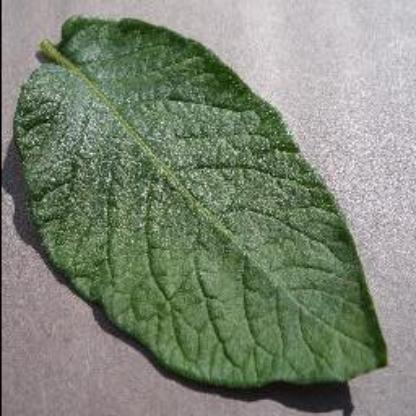Healthy-plant: (15, 13, 396, 390)
